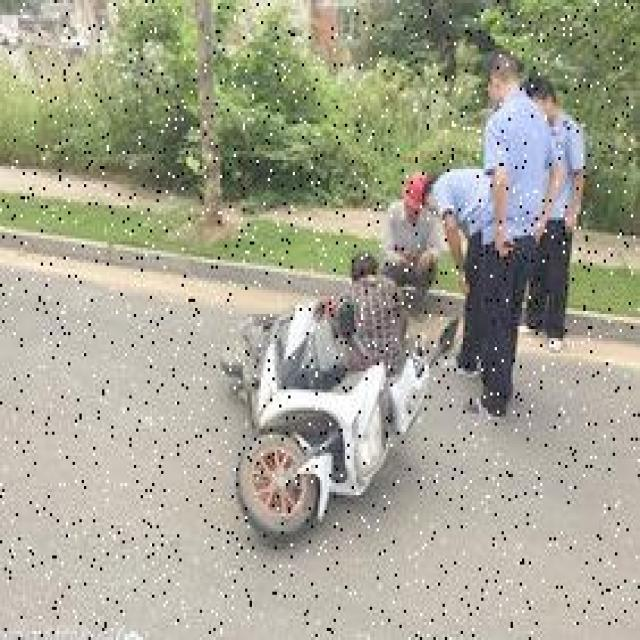fall: (324, 253, 408, 374)
